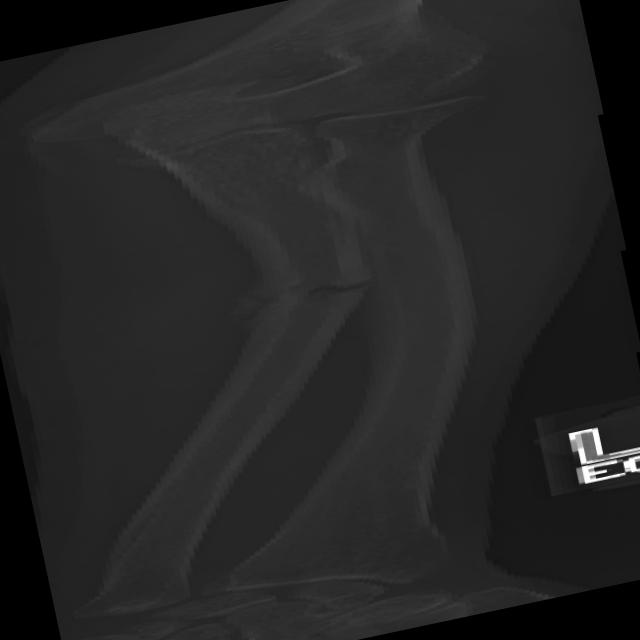forearm fracture: (127, 216, 463, 381)
